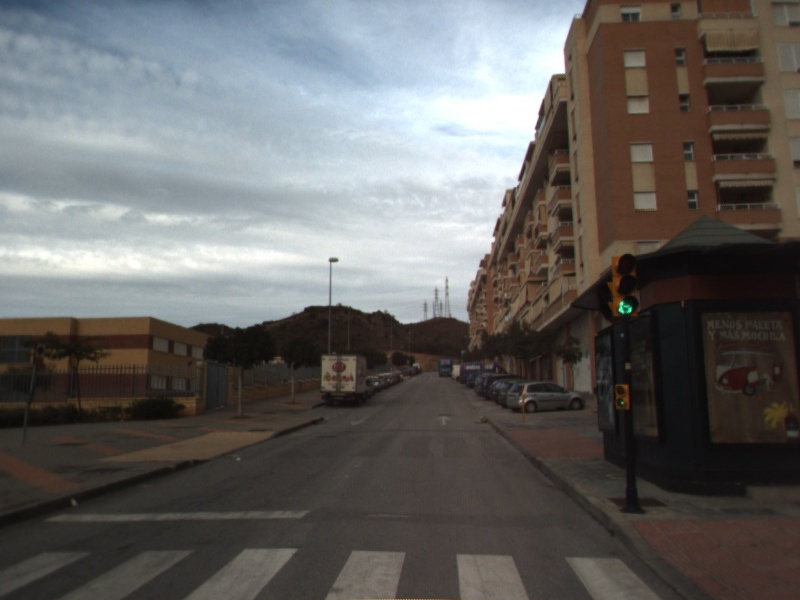STRAIGHT: (434, 413, 454, 427)
